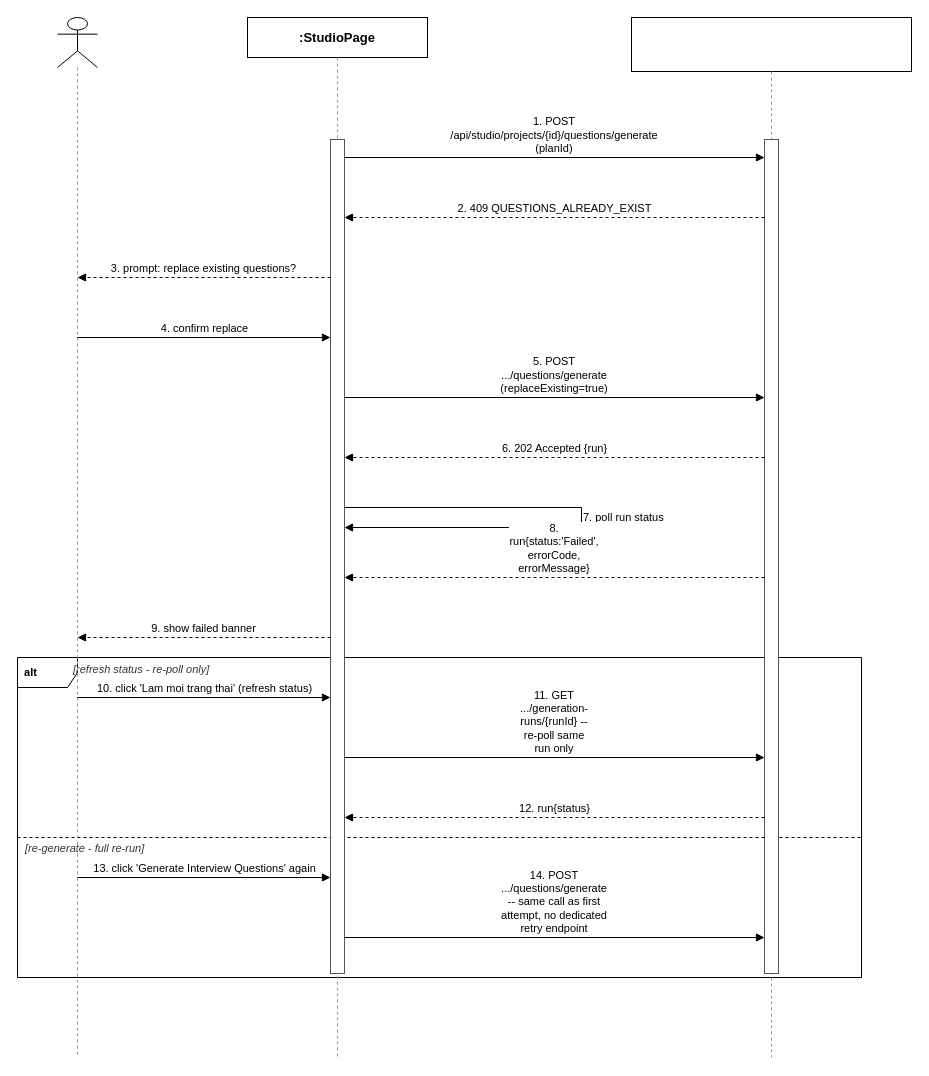
This 929x1076 diagram has some shape labels left out. The shapes that lost their labels are listed below. From the top down, each one's centre as x and y in pixels, then its label:
the point at 77,42: HR Manager
the point at 771,44: :StudioInterviewQuestionsController
